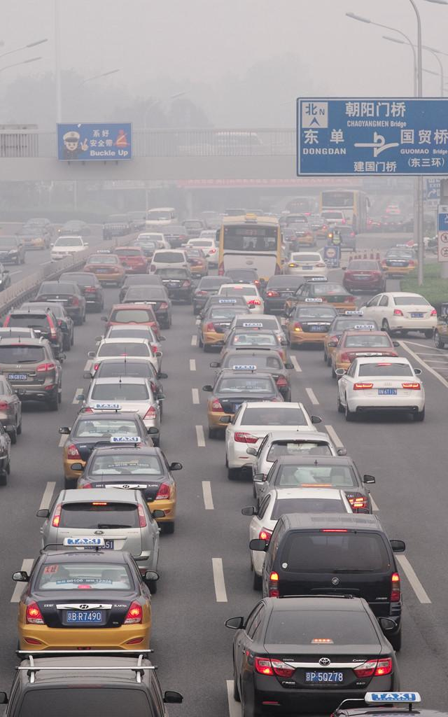bus: (213, 213, 285, 283), (317, 187, 372, 232)
car: (246, 510, 409, 654), (221, 590, 398, 717), (11, 536, 159, 658), (35, 487, 166, 596), (7, 646, 183, 717), (240, 489, 360, 591), (68, 433, 183, 535), (252, 455, 376, 536), (57, 402, 159, 491), (217, 401, 323, 481), (245, 430, 346, 499), (200, 363, 285, 441), (334, 354, 425, 423), (1, 336, 68, 414), (76, 376, 166, 434), (81, 357, 168, 416), (208, 348, 294, 403), (328, 322, 400, 378), (2, 306, 68, 365), (357, 289, 438, 337), (85, 336, 163, 384), (93, 324, 166, 374), (215, 321, 289, 368), (194, 297, 255, 354), (322, 309, 379, 369), (282, 275, 355, 317), (285, 296, 339, 351), (219, 314, 288, 356), (18, 302, 75, 352), (99, 302, 166, 343), (33, 280, 89, 325), (121, 284, 173, 331), (55, 270, 107, 313), (198, 293, 252, 334), (1, 326, 43, 375), (261, 273, 306, 316), (190, 274, 235, 316), (116, 273, 168, 309), (339, 258, 389, 294), (150, 266, 197, 304), (216, 282, 264, 318), (1, 373, 25, 445), (84, 249, 128, 287), (147, 248, 193, 283), (380, 242, 421, 279), (283, 250, 330, 282), (221, 266, 265, 300), (172, 241, 212, 278), (47, 234, 89, 266), (111, 245, 154, 274), (128, 233, 164, 266), (15, 221, 52, 253), (324, 222, 360, 254), (141, 205, 178, 236), (1, 417, 17, 486), (186, 236, 220, 268), (284, 219, 319, 250), (135, 231, 172, 260), (100, 212, 136, 241), (394, 211, 436, 233), (1, 233, 27, 268), (180, 217, 213, 243), (158, 223, 190, 248), (280, 211, 308, 239), (197, 228, 225, 256), (19, 217, 54, 237), (319, 208, 346, 233), (307, 212, 331, 239), (56, 219, 92, 237), (432, 310, 448, 349), (276, 226, 300, 251), (124, 209, 150, 232), (1, 259, 14, 295), (383, 201, 402, 219)
